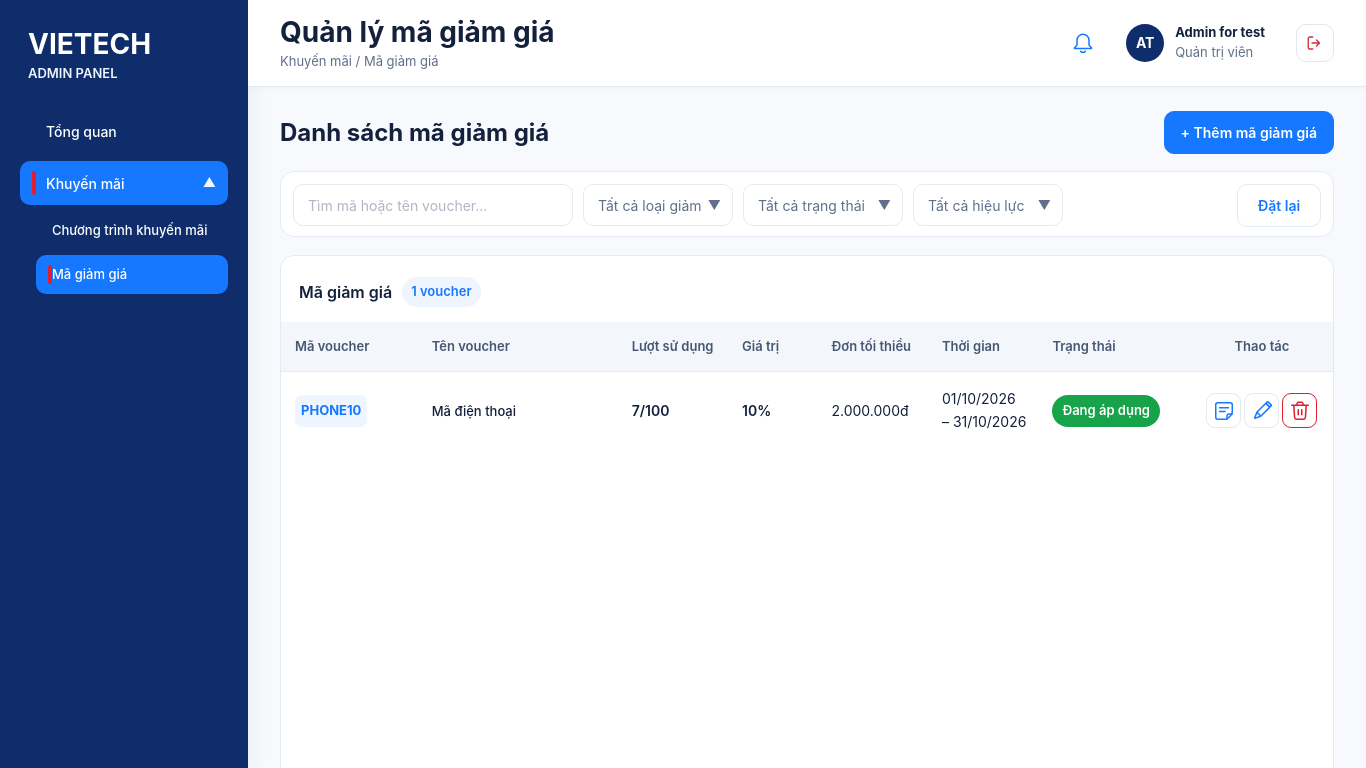
Test case: detail reads fresh server counts and links to the real program details
The width and height of the screenshot is (1366, 768).
What coordinates should you click on to do the following:
click the button named "Chi tiết mã PHONE10"
I would click on:
 (1224, 411)
Its box is [1206, 393, 1242, 428].
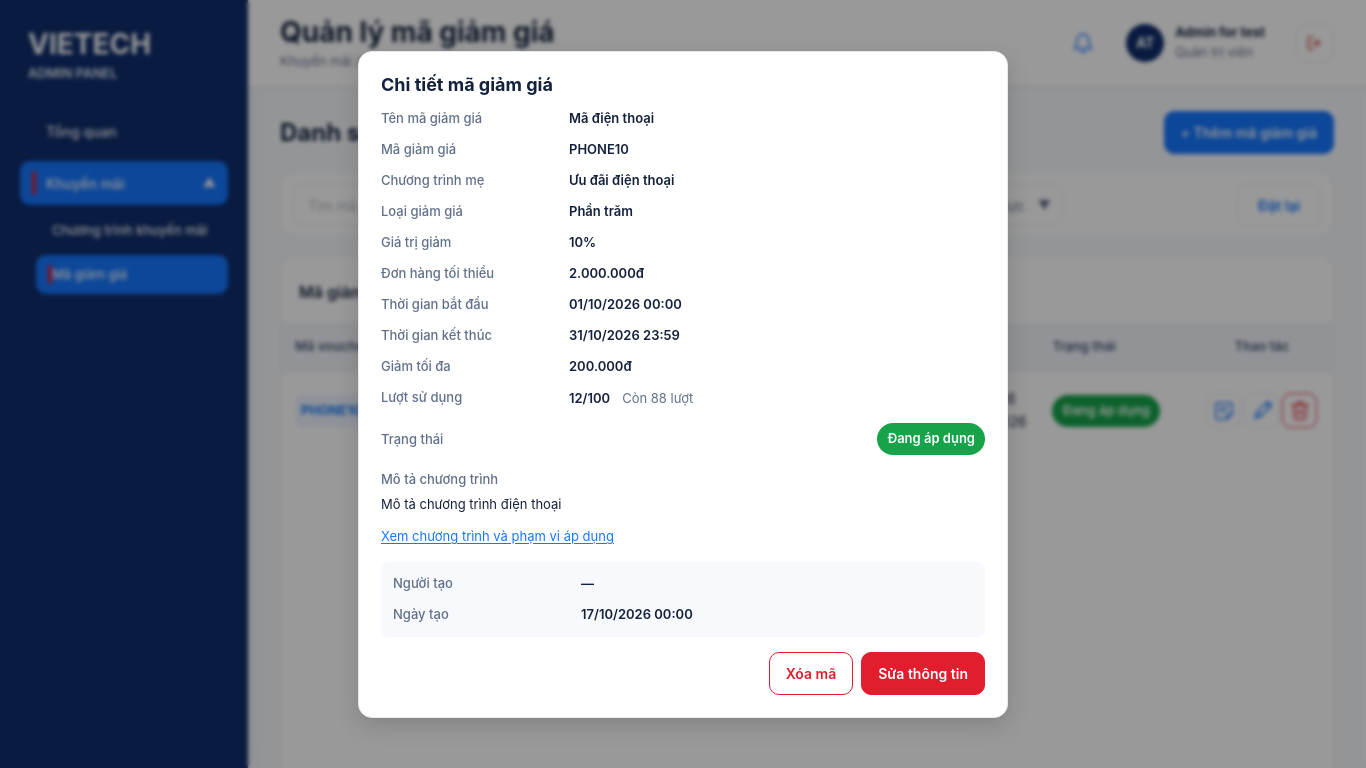
Result: the text "12/100" is shown at [569, 390, 610, 406]
Result: the text "Còn 88 lượt" is shown at [622, 388, 693, 408]
What coordinates should you click on to do the following:
click the link "Xem chương trình và phạm vi áp dụng"
I would click on:
 (497, 537)
Its box is [381, 527, 614, 546].
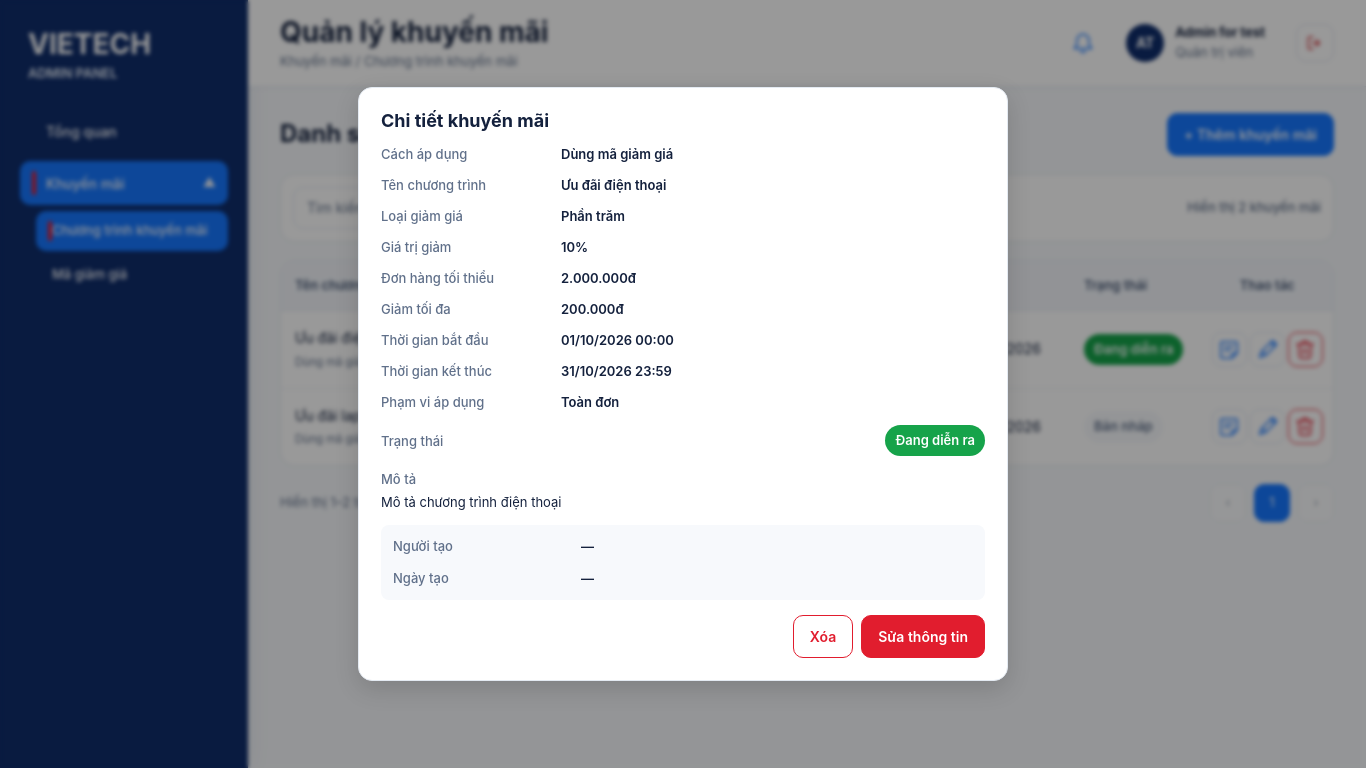
Result: the dialog "Chi tiết khuyến mãi" is shown at [358, 87, 1008, 681]
